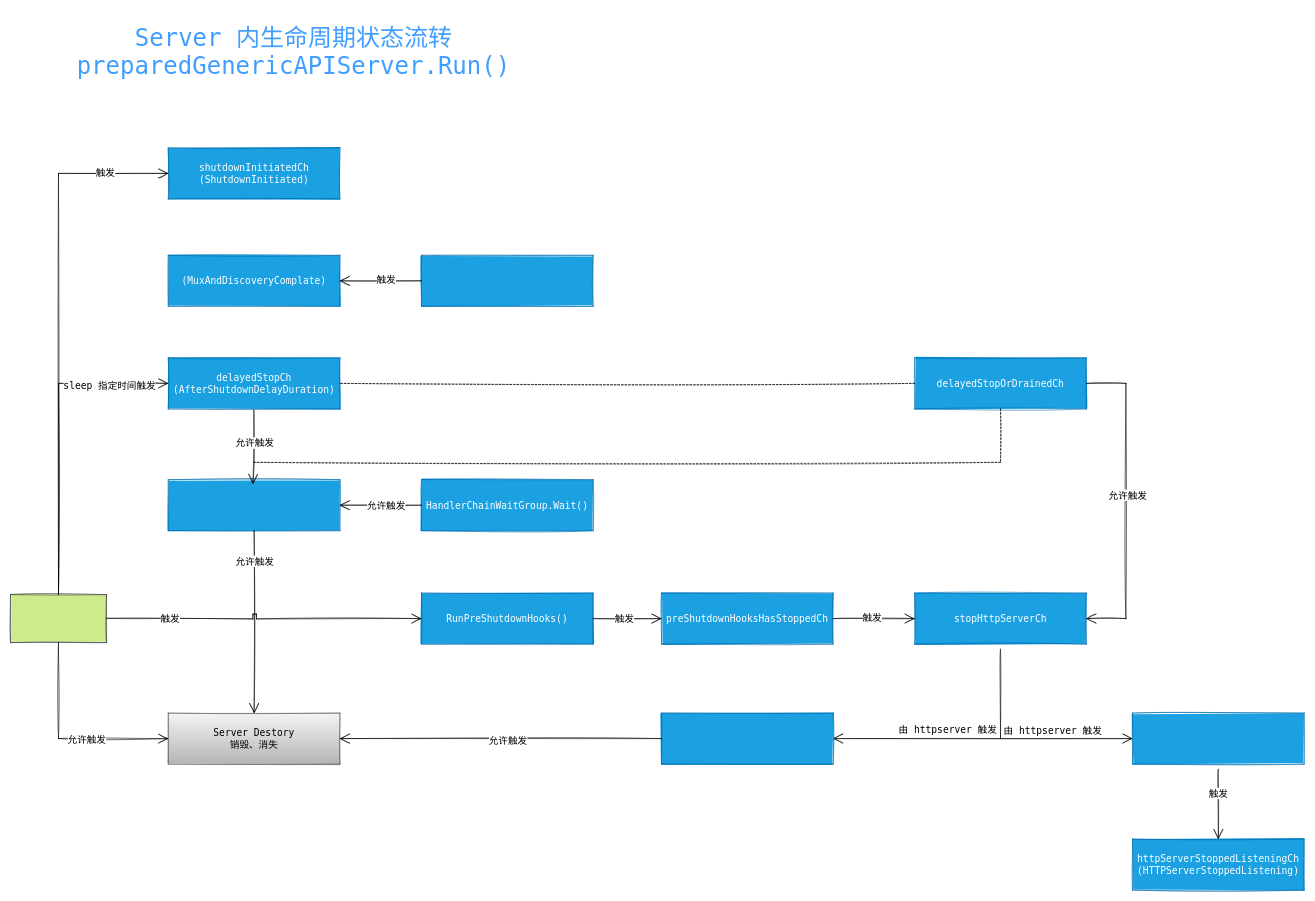
This 1315x901 diagram has some shape labels left out. The box of each missing label's shape, as (x1, y1, x2, y2) in pixels:
All Mux And Discovery Complate: (421, 255, 593, 306)
drainedCh (InFlightRequestDrained): (168, 479, 340, 531)
listenerStoppedCh: (1132, 712, 1304, 764)
stopCh 由外界发出: (10, 594, 106, 643)
stoppedCh: (661, 712, 833, 764)
